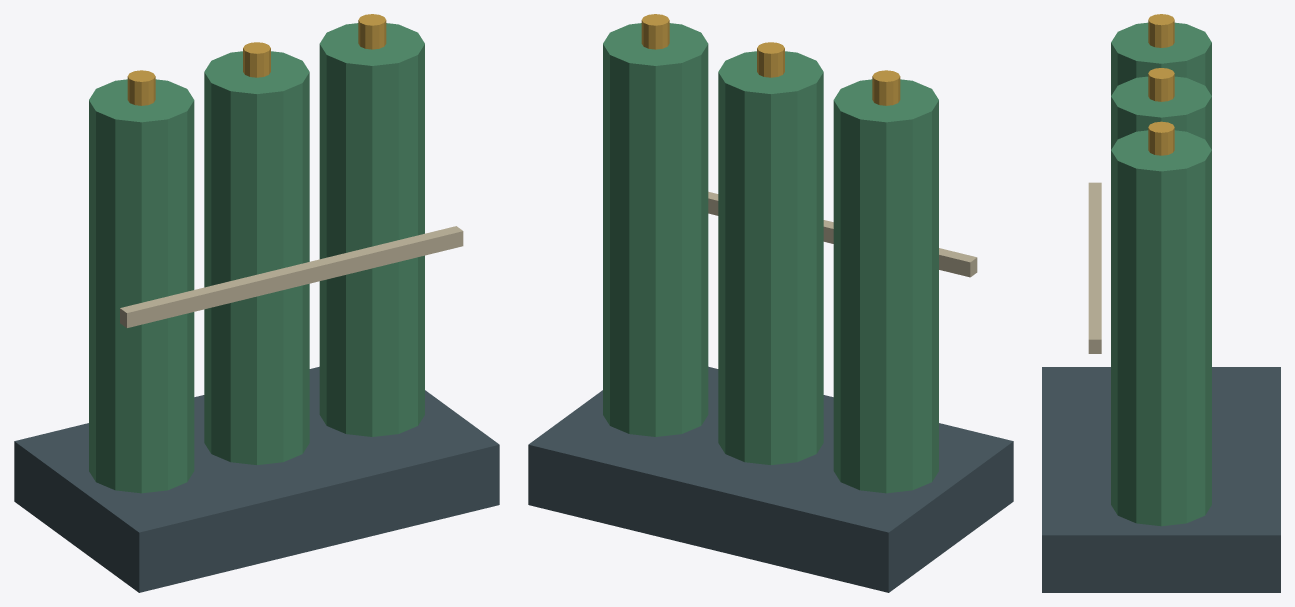
Rendered from gas_cylinder_rack.glb.
3 views of the same model, side by side, from view 1: azimuth 30°, elevation 25°; view 2: azimuth 150°, elevation 25°; view 3: azimuth 270°, elevation 25° (orthographic). The views are drawn at different scales.
Visible parts, largest first — view 1: gas_cylinder_rack; view 2: gas_cylinder_rack; view 3: gas_cylinder_rack.
Part boxes in pixels (x1=…): gas_cylinder_rack: x1=14, y1=14, x2=499, y2=592; gas_cylinder_rack: x1=528, y1=14, x2=1013, y2=592; gas_cylinder_rack: x1=1042, y1=14, x2=1280, y2=592.
Bounding box in the file's own units: 1.5 × 1.81 × 0.9.
